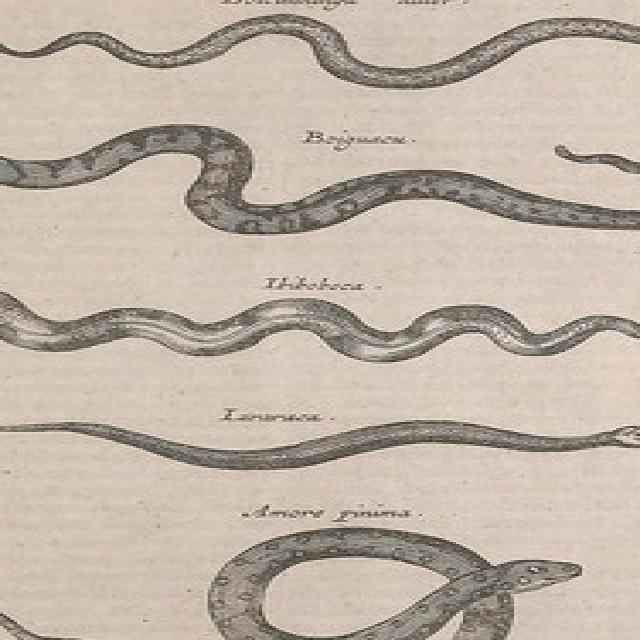Snake: (0, 120, 640, 234), (0, 524, 582, 640), (0, 280, 640, 362), (0, 10, 640, 88), (0, 414, 640, 470)
